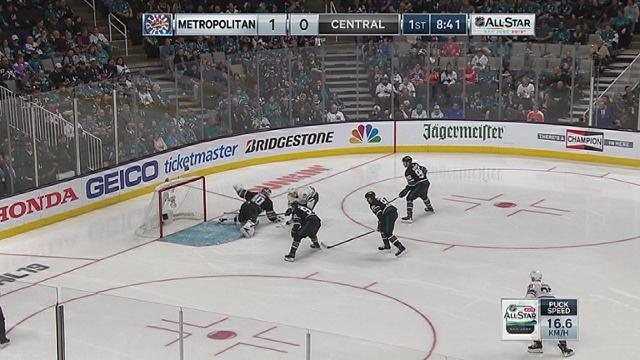geico: (84, 159, 163, 200)
